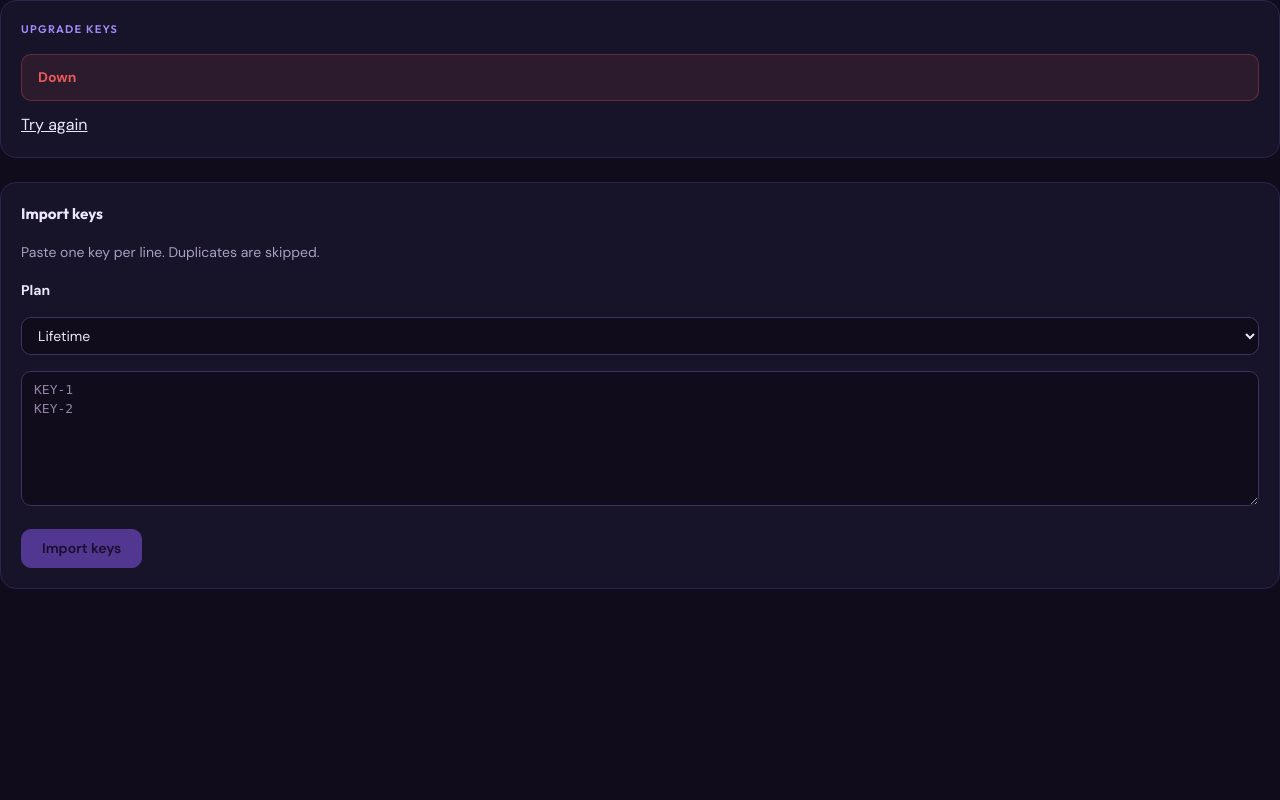
Test: AdminKeys › shows a stats error and retries
Expected: the text "Down" is shown, [21, 54, 1259, 100]
What coordinates should you click on to do the following:
click the button "Try again"
I would click on:
 (54, 124)
Its box is [21, 112, 88, 136].
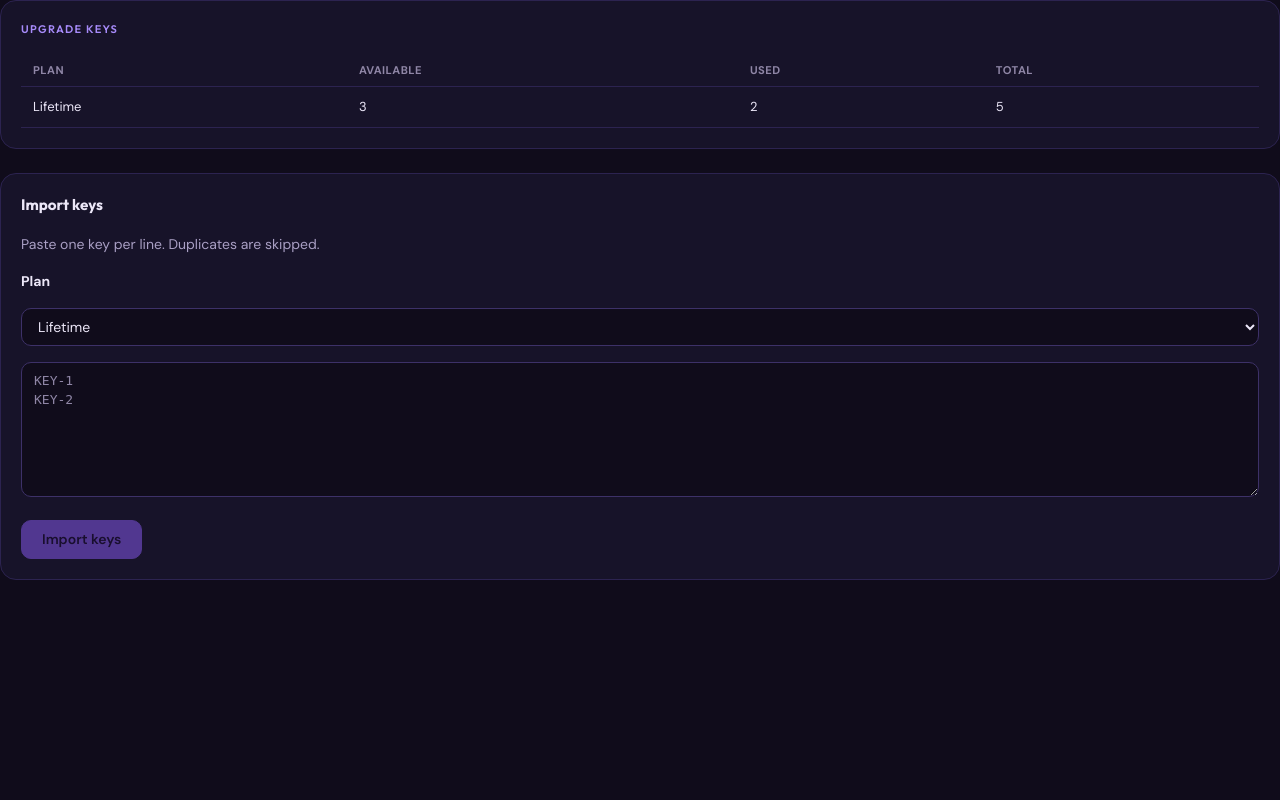
Result: the table is shown at [21, 54, 1259, 128]
